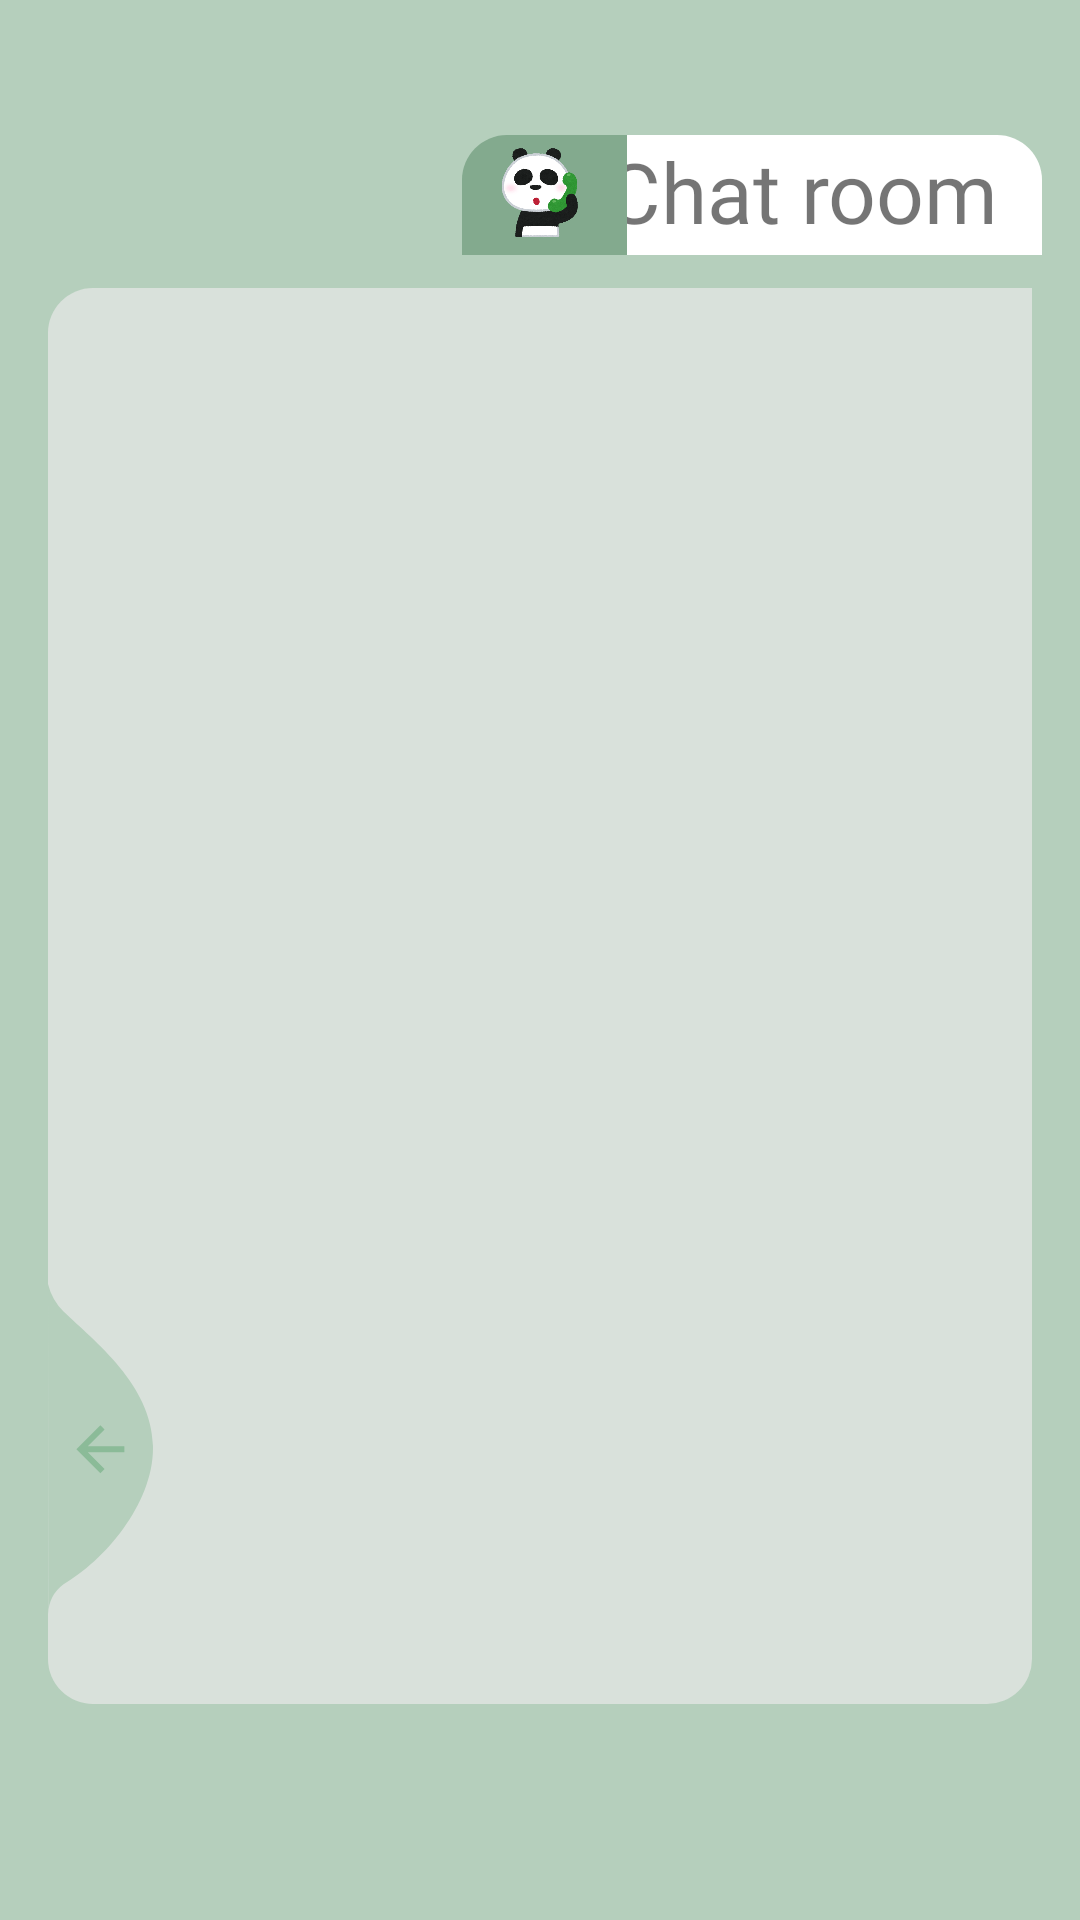

Where icons sit on this 1080w x 1920h app screen, as (left=x1, top=y1, right=x2, bottom=y2):
back: (left=48, top=1286, right=153, bottom=1608)
mark network status tsuuwachu: (left=462, top=135, right=627, bottom=255)
